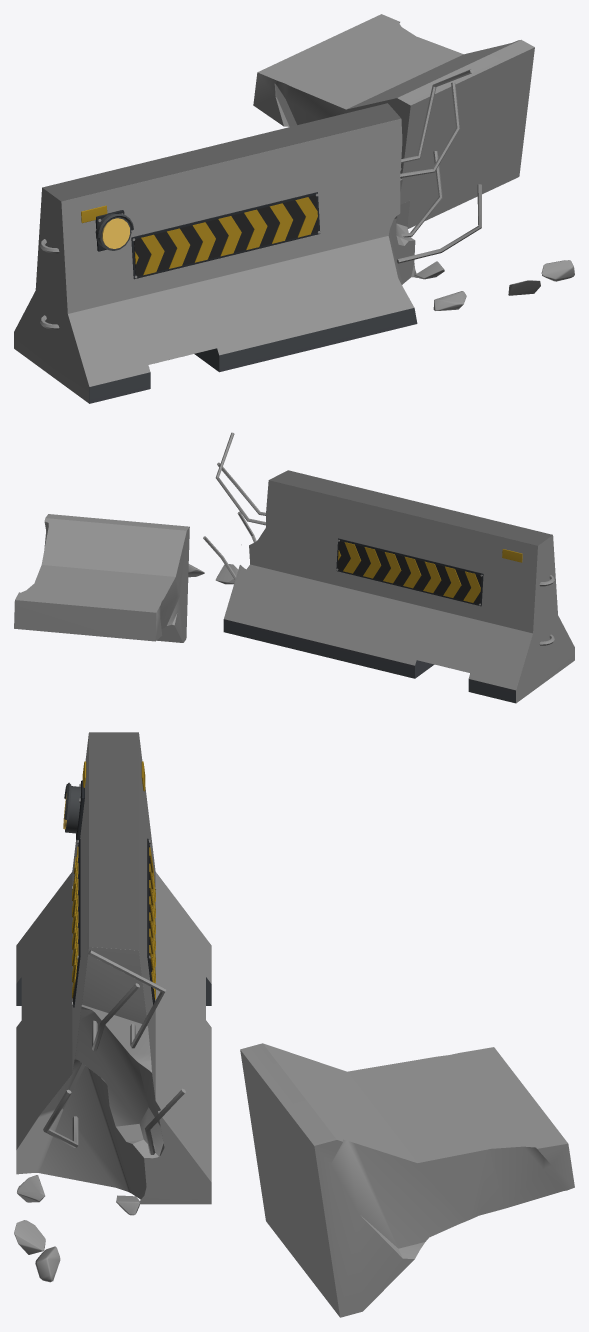
File: Barrier_Jersey_Broken.fbx
3 views of the same model, one above another, from view 1: azimuth 30°, elevation 25°; view 2: azimuth 150°, elevation 25°; view 3: azimuth 270°, elevation 25° (orthographic). The views are drawn at different scales.
Parts seen in each view (by area): view 1: Barrier_Jersey_Broken_LOD0; view 2: Barrier_Jersey_Broken_LOD0; view 3: Barrier_Jersey_Broken_LOD0.
Boxes of the visible parts, left/top/right/bottom form: Barrier_Jersey_Broken_LOD0: left=14, top=14, right=574, bottom=403; Barrier_Jersey_Broken_LOD0: left=14, top=432, right=574, bottom=703; Barrier_Jersey_Broken_LOD0: left=14, top=732, right=574, bottom=1317.
Size of what is drawn, in the model's own units: 2.66 by 0.9655 by 1.75.
